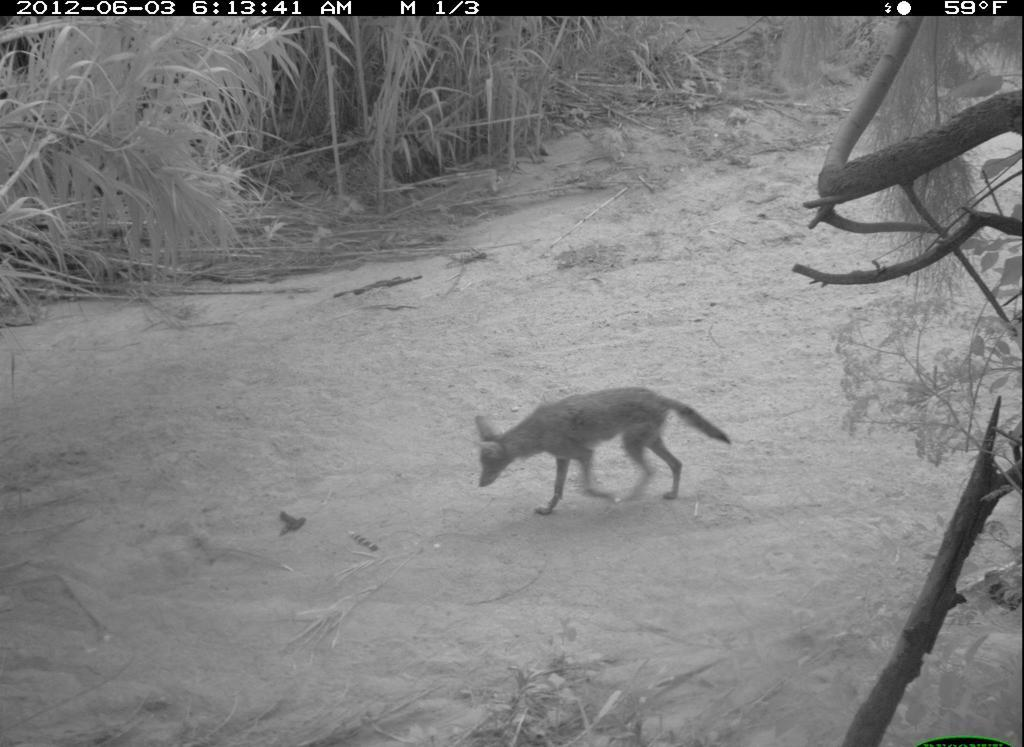coyote: (473, 382, 735, 521)
